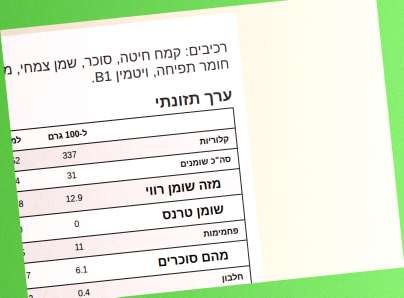carbs: (73, 241, 85, 253)
energy: (61, 149, 79, 162)
fat: (65, 169, 78, 182)
protein: (76, 287, 92, 298)
